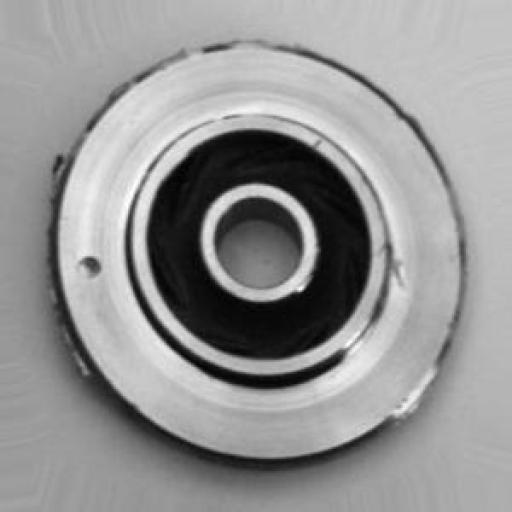defect: (28, 23, 484, 486), (48, 227, 124, 305)
